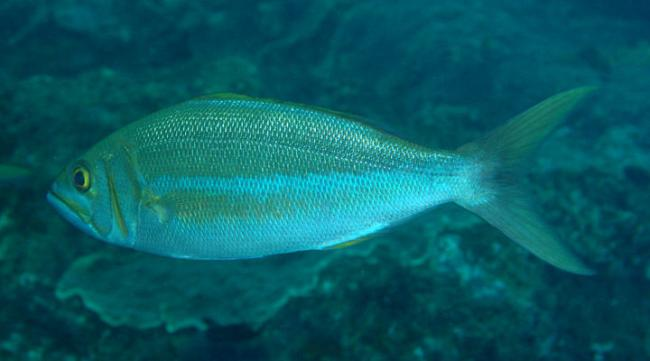fish: (48, 84, 598, 280)
